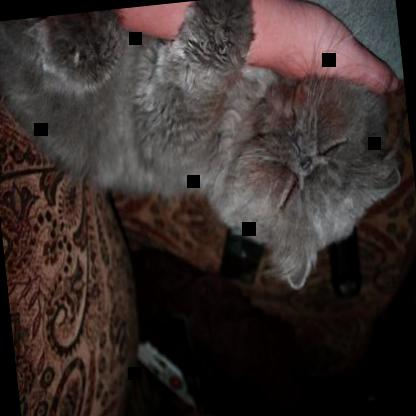cat: (0, 0, 412, 319)
